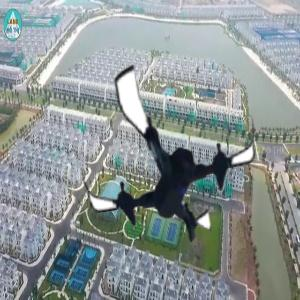drone: (72, 59, 265, 252)
